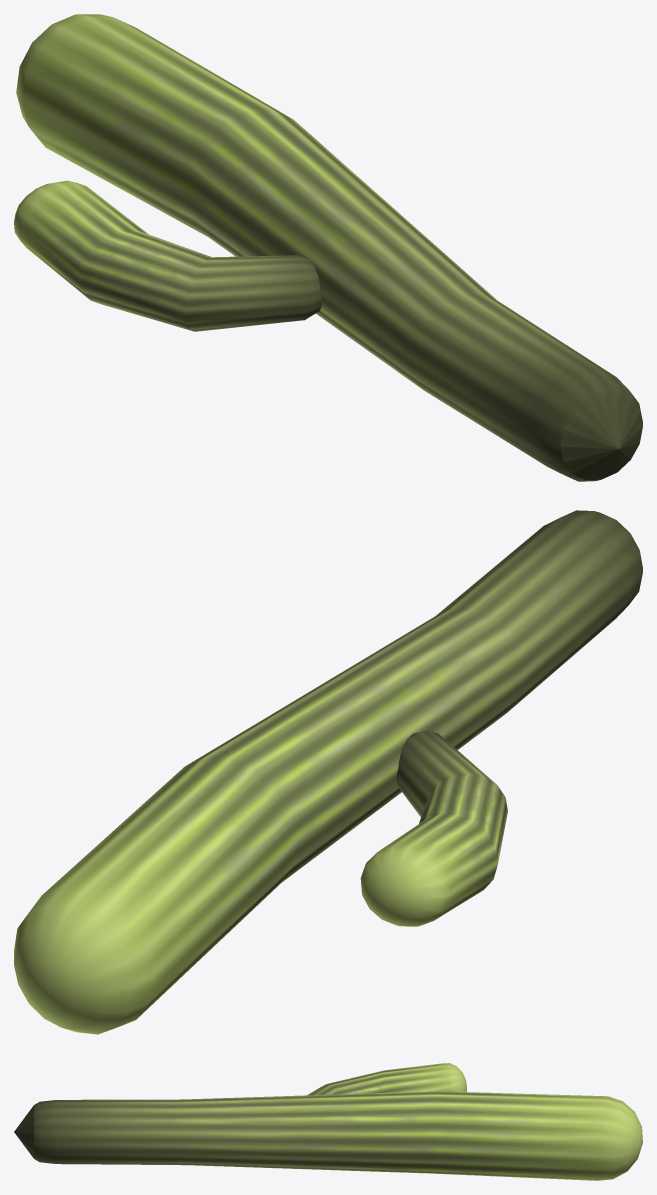
The model's file is Cactus_001.FBX.
3 views of the same model, one above another, from view 1: azimuth 30°, elevation 25°; view 2: azimuth 150°, elevation 25°; view 3: azimuth 270°, elevation 25° (orthographic). The views are drawn at different scales.
Visible parts, largest first — view 1: Cactus; view 2: Cactus; view 3: Cactus.
Boxes of the visible parts, x1,y1,x2,y2 form: Cactus: (14, 14, 642, 481); Cactus: (14, 510, 642, 1034); Cactus: (14, 1063, 642, 1180).
Bounding box in the file's own units: 0.7251 × 0.3664 × 2.46.
